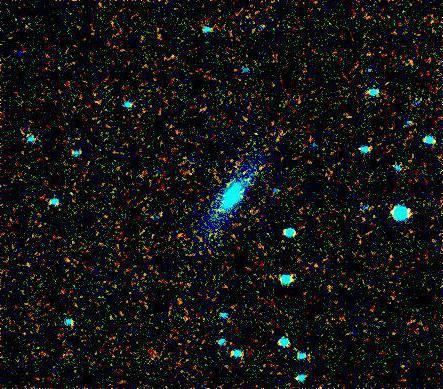star: (213, 168, 243, 198)
